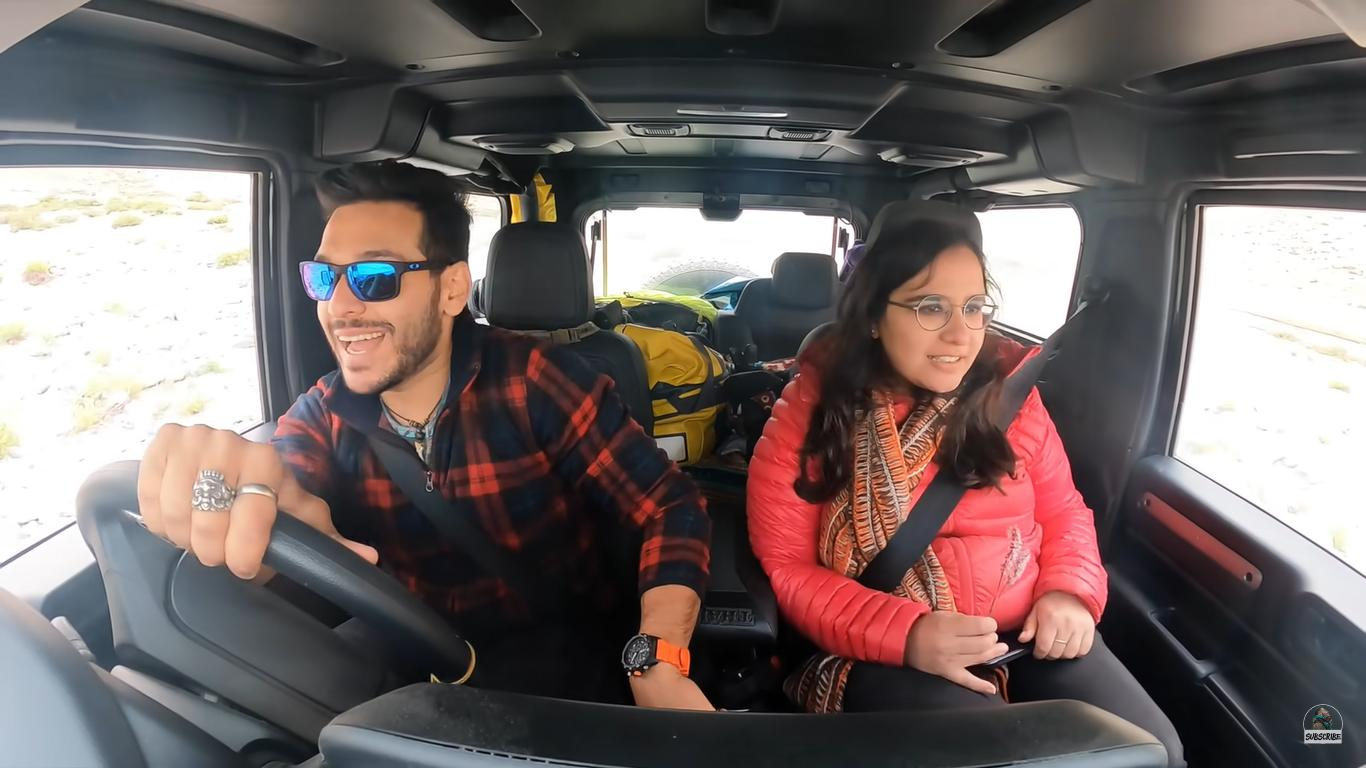seatbelt: (312, 375, 568, 648), (820, 405, 1056, 651)
